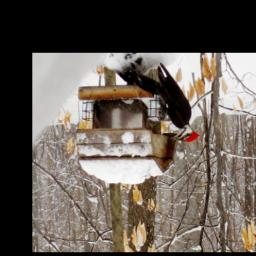Woodpecker: (124, 62, 201, 143)
